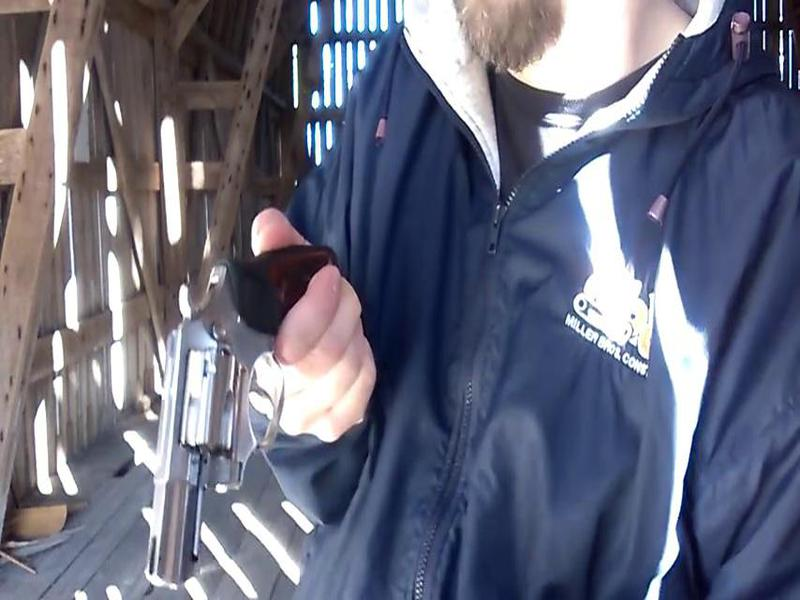Revolver: (116, 236, 308, 597)
